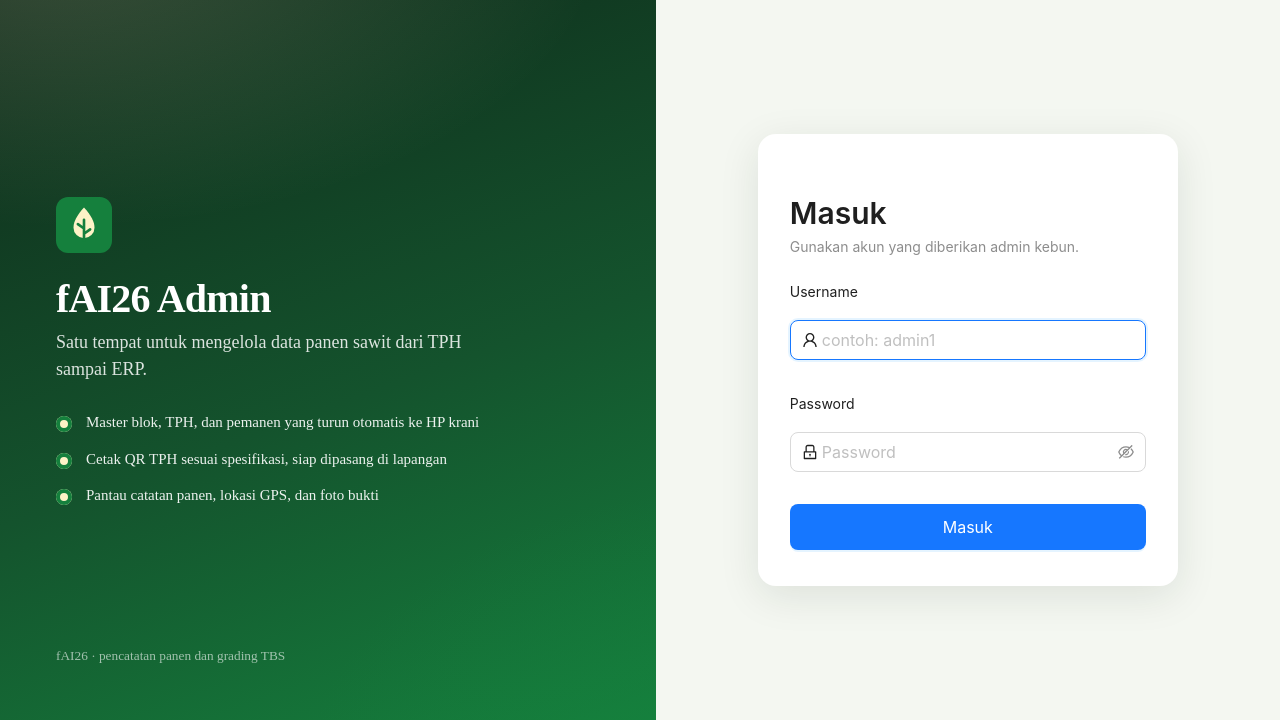
Test case: LoginPage › akun tanpa hak web admin ditolak dengan pesan jelas dan sesinya dicabut
The width and height of the screenshot is (1280, 720).
Type "krani1" into the field labelled "Username".
click(978, 340); type("krani1")  # box 822,328 -> 1134,352
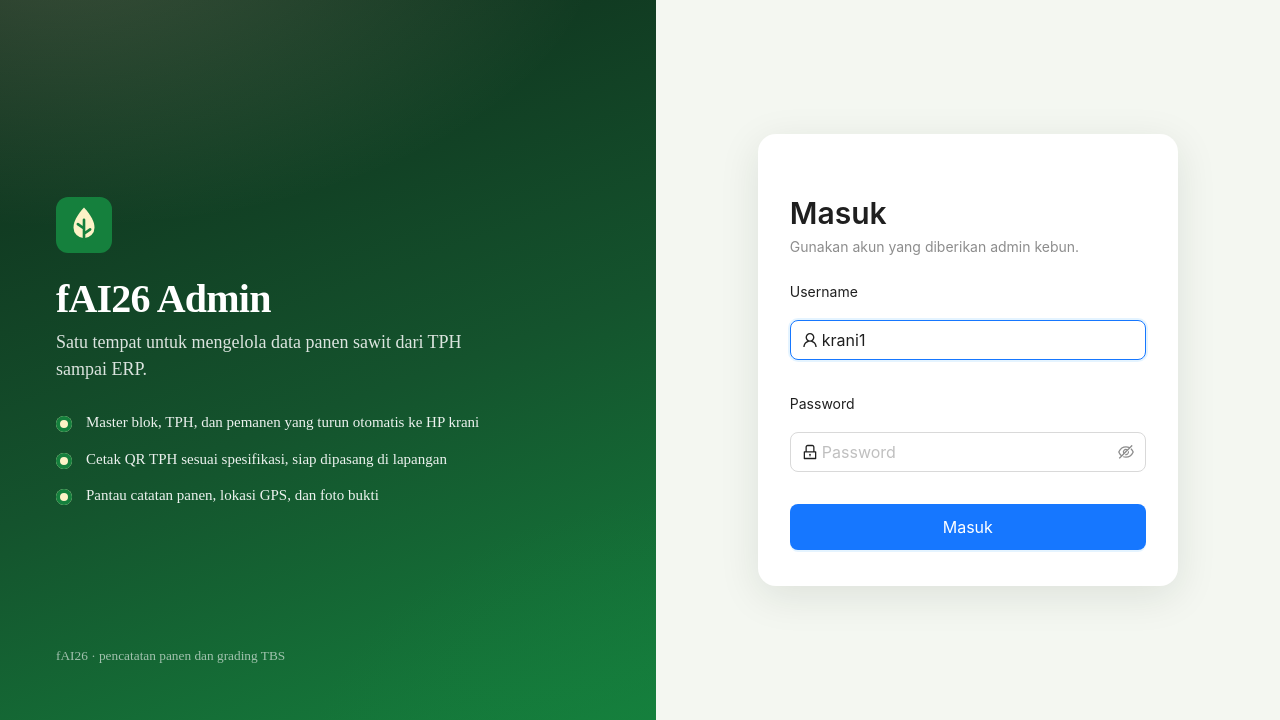
Type "krani123" into the password field labelled "Password".
click(968, 452); type("krani123")  # box 822,440 -> 1114,464
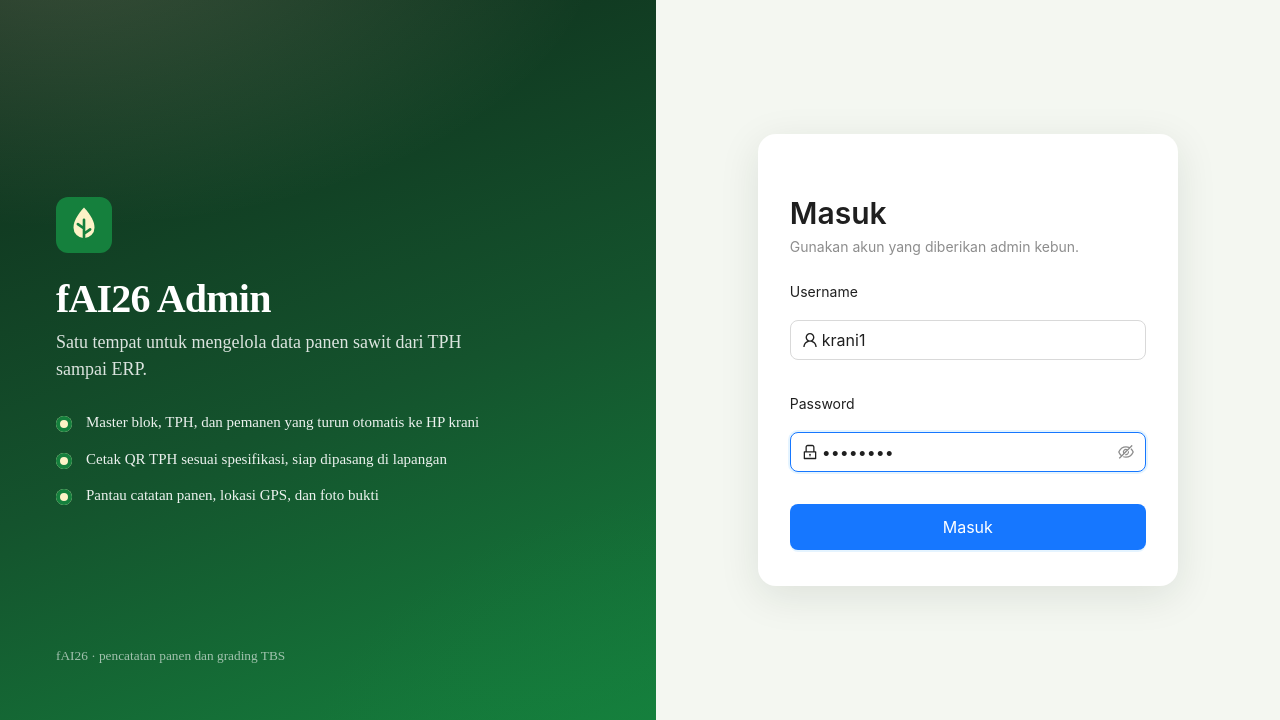
Click the button "Masuk".
click(968, 527)  # box 790,504 -> 1146,550
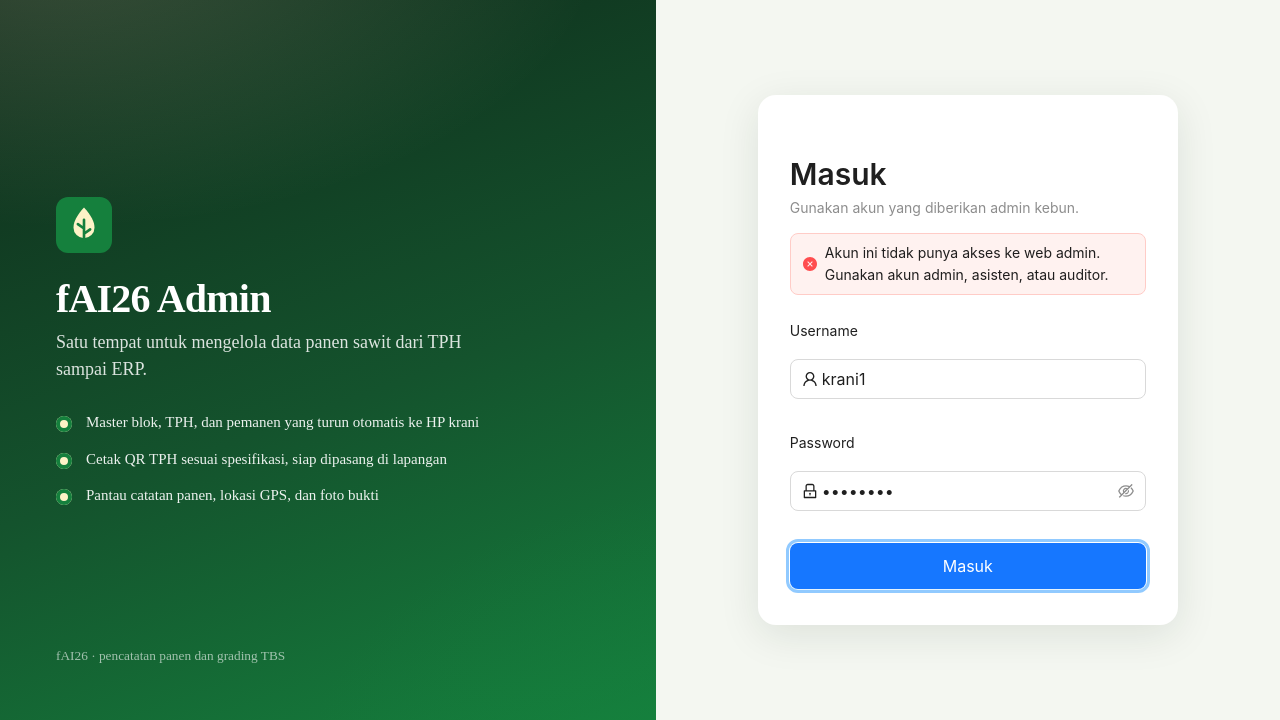
Now the message shows "tidak punya akses ke web admin", box 825,244 -> 1109,283
